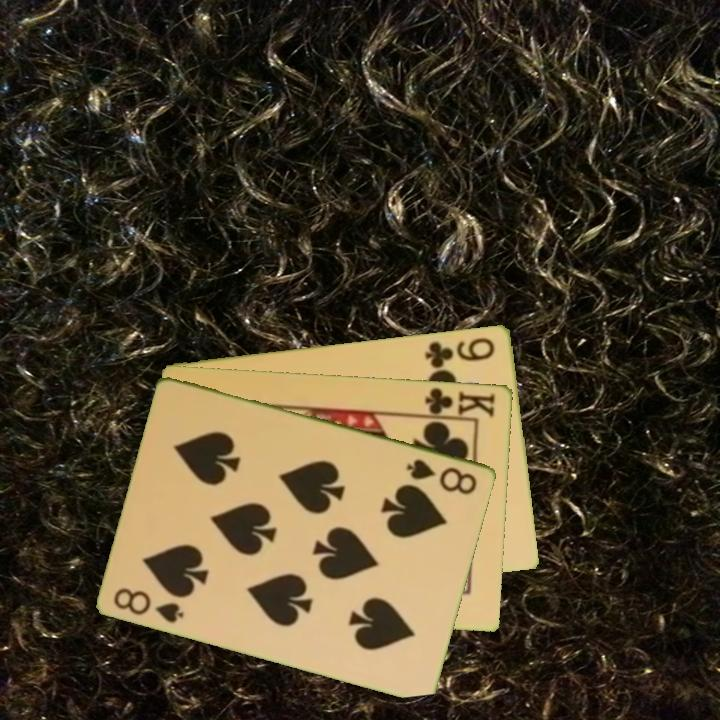8s: (403, 455, 481, 498), (110, 584, 188, 626)
9c: (421, 333, 498, 370)
Kc: (417, 384, 498, 421)
